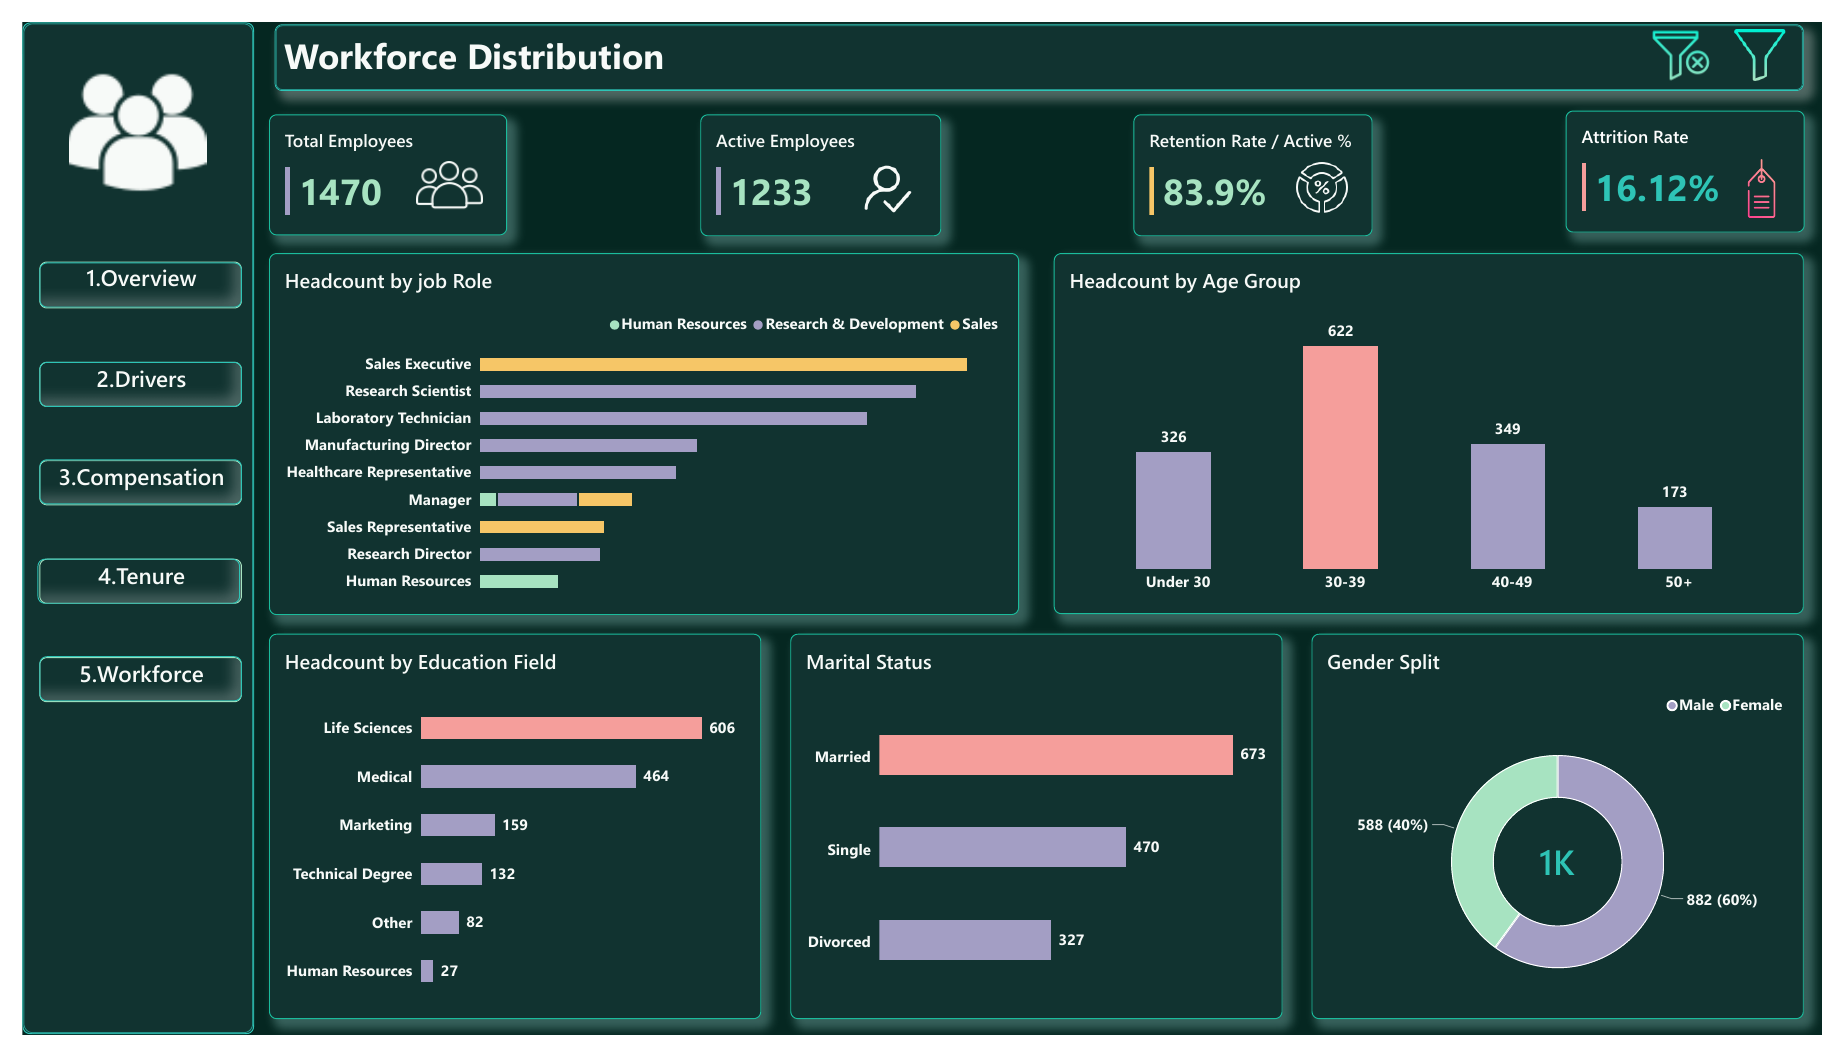

Layout of this report page (visuals, bound fields, positions):
{"tool":"powerbi","page":{"name":"Workforce","canvas":[1920,1080],"ordinal":5},"visuals":[{"type":"multiRowCard","title":"Active Employees","fields":{"Values":["Measures_HR.Active Employees"]},"box":[723,98.1,256.9,130],"z":0},{"type":"shape","box":[0,0,246.6,1079.3],"z":1000},{"type":"shape","title":"2.Drivers","box":[18.1,361.8,215.5,48.3],"z":2000},{"type":"shape","title":"3.Compensation","box":[18.1,466.7,215.5,48.3],"z":3000},{"type":"shape","title":"4.Tenure","box":[18.1,571.7,215.5,48.3],"z":4000},{"type":"shape","title":"5.Workforce","box":[18.1,676.7,215.5,48.3],"z":5000},{"type":"shape","title":" 1.Overview","box":[18.1,255.1,215.5,50],"z":6000},{"type":"multiRowCard","title":"Total Employees ","fields":{"Values":["Measures_HR.Total Employees"]},"box":[262.5,97.9,254.2,129.2],"z":7000},{"type":"multiRowCard","title":"Retention Rate / Active %","fields":{"Values":["Measures_HR.Active Employees %"]},"box":[1185.4,98.1,255,130],"z":8000},{"type":"multiRowCard","title":"Attrition Rate ","fields":{"Values":["Measures_HR.Attrition Rate"]},"box":[1645.8,93.9,255,130],"z":9000},{"type":"barChart","title":"Headcount  by job Role ","fields":{"Category":["Dim_Job.job_role"],"Series":["Dim_Job.department"],"Y":["Measures_HR.Total Employees"]},"box":[262.5,245.7,800,386],"z":10000},{"type":"clusteredColumnChart","title":"Headcount  by Age Group","fields":{"Category":["Fact_Employee.Age Group"],"Y":["Measures_HR.Total Employees"]},"box":[1100,245.7,800,385.4],"z":11000},{"type":"donutChart","title":"Gender Split","fields":{"Category":["Fact_Employee.gender"],"Y":["Measures_HR.Total Employees"]},"box":[1375,652.1,525,411],"z":12000},{"type":"clusteredBarChart","title":"Marital Status","fields":{"Category":["Fact_Employee.marital_status"],"Y":["Measures_HR.Total Employees"]},"box":[818.8,652.1,525,410.4],"z":13000},{"type":"clusteredBarChart","title":"Headcount by Education Field","fields":{"Category":["Fact_Employee.education_field"],"Y":["Measures_HR.Total Employees"]},"box":[262.5,652.1,525,411],"z":14000},{"type":"shape","box":[268.8,2.1,1631.2,70.8],"z":16000},{"type":"image","box":[1811.1,6.7,85,55],"z":17000},{"type":"image","box":[1718.8,0,100,70],"z":18000},{"type":"image","box":[414.6,147.9,81.2,70.8],"z":19000},{"type":"textbox","box":[279.3,10.3,643.1,69],"z":20000},{"type":"image","box":[889.6,147.9,66.7,58.3],"z":21000},{"type":"image","box":[1821.1,136.8,68.4,78.9],"z":22000},{"type":"image","box":[34.4,45.2,177.1,145.8],"z":23000},{"type":"image","box":[1342.8,146.6,85.1,57.9],"z":24000},{"type":"actionButton","box":[18,256,216,48],"z":25000},{"type":"actionButton","box":[18,362,216,48],"z":26000},{"type":"actionButton","box":[18,466,216,48],"z":27000},{"type":"actionButton","box":[16,572,216,48],"z":28000},{"type":"actionButton","box":[18,676,216,48],"z":29000}]}

Visuals, with their boxes in screenshot pixels (x1, y1, x2, y2), scaled from the page's 1920x1080 canvas onto the 1845x1058 screenshot:
"Active Employees" multiRowCard: crop(695, 96, 942, 223)
shape: crop(0, 0, 237, 1057)
"2.Drivers" shape: crop(17, 354, 224, 402)
"3.Compensation" shape: crop(17, 457, 224, 505)
"4.Tenure" shape: crop(17, 560, 224, 607)
"5.Workforce" shape: crop(17, 663, 224, 710)
" 1.Overview" shape: crop(17, 250, 224, 299)
"Total Employees " multiRowCard: crop(252, 96, 497, 222)
"Retention Rate / Active %" multiRowCard: crop(1139, 96, 1384, 223)
"Attrition Rate " multiRowCard: crop(1582, 92, 1827, 219)
"Headcount  by job Role " barChart: crop(252, 241, 1021, 619)
"Headcount  by Age Group" clusteredColumnChart: crop(1057, 241, 1826, 618)
"Gender Split" donutChart: crop(1321, 639, 1826, 1041)
"Marital Status" clusteredBarChart: crop(787, 639, 1291, 1041)
"Headcount by Education Field" clusteredBarChart: crop(252, 639, 757, 1041)
shape: crop(258, 2, 1826, 71)
image: crop(1740, 7, 1822, 60)
image: crop(1652, 0, 1748, 69)
image: crop(398, 145, 476, 214)
textbox: crop(268, 10, 886, 78)
image: crop(855, 145, 919, 202)
image: crop(1750, 134, 1816, 211)
image: crop(33, 44, 203, 187)
image: crop(1290, 144, 1372, 200)
actionButton: crop(17, 251, 225, 298)
actionButton: crop(17, 355, 225, 402)
actionButton: crop(17, 457, 225, 504)
actionButton: crop(15, 560, 223, 607)
actionButton: crop(17, 662, 225, 709)
